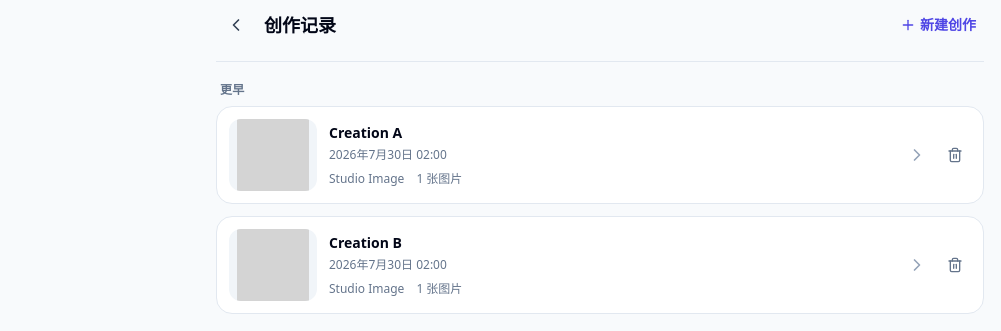
Scenario: image history page › removes a creation record immediately and persists only its scoped dismissal
Click the button named "从创作记录中移除" in the row of "Creation A". click: (955, 155)
box: [935,135,975,175]
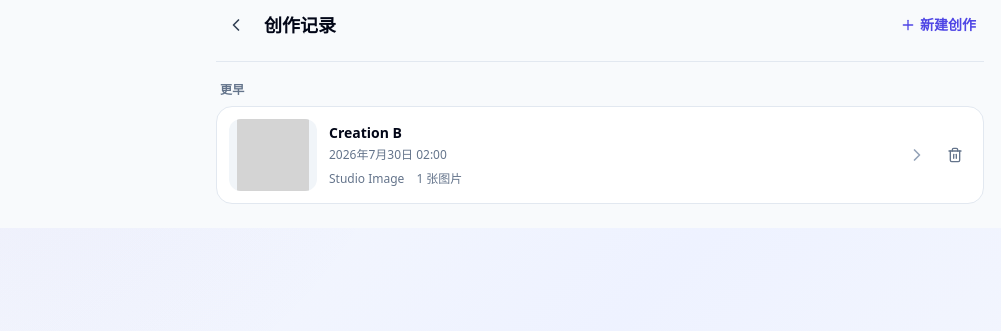
Expected: the text "Creation B" is shown, [329,123,402,142]
Expected: the text "Creation A" is gone
